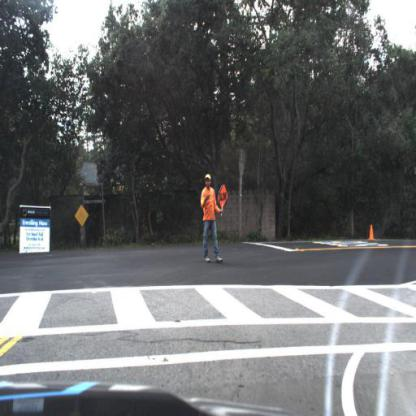pedestrian: (198, 172, 229, 269)
